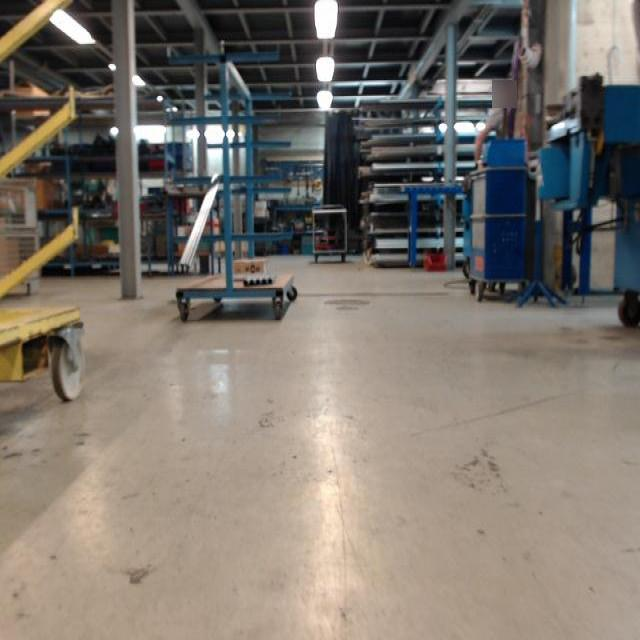stillage: (0, 173, 48, 300)
